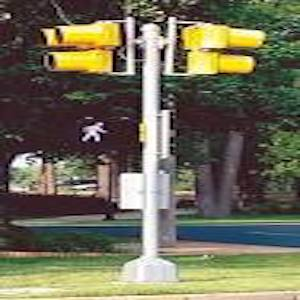green: (81, 119, 108, 144)
